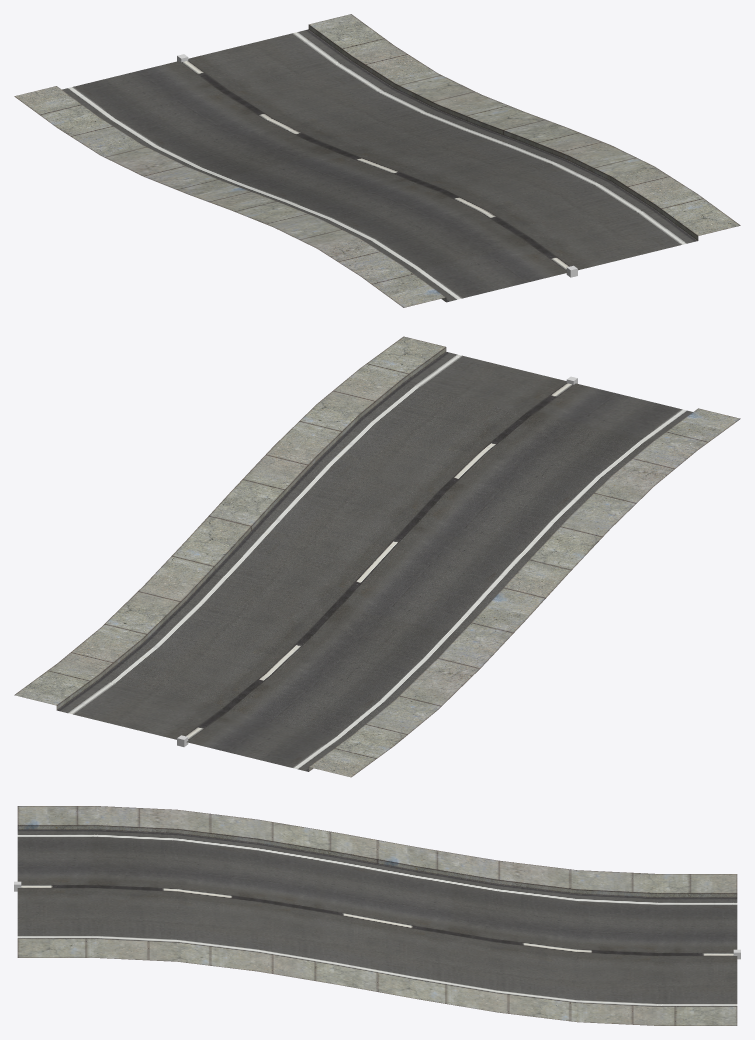
The model's file is roadSlope.down1.fbx.
3 views of the same model, one above another, from view 1: azimuth 30°, elevation 25°; view 2: azimuth 150°, elevation 25°; view 3: azimuth 270°, elevation 25° (orthographic). The views are drawn at different scales.
Parts seen in each view (by area): view 1: MESH roadSlope.down1; view 2: MESH roadSlope.down1; view 3: MESH roadSlope.down1.
Boxes of the visible parts, x1,y1,x2,y2 form: MESH roadSlope.down1: [14, 14, 740, 307]; MESH roadSlope.down1: [14, 336, 740, 777]; MESH roadSlope.down1: [17, 806, 737, 1025].
Size of what is drawn, in the model's own units: 2400 by 558 by 4850.
